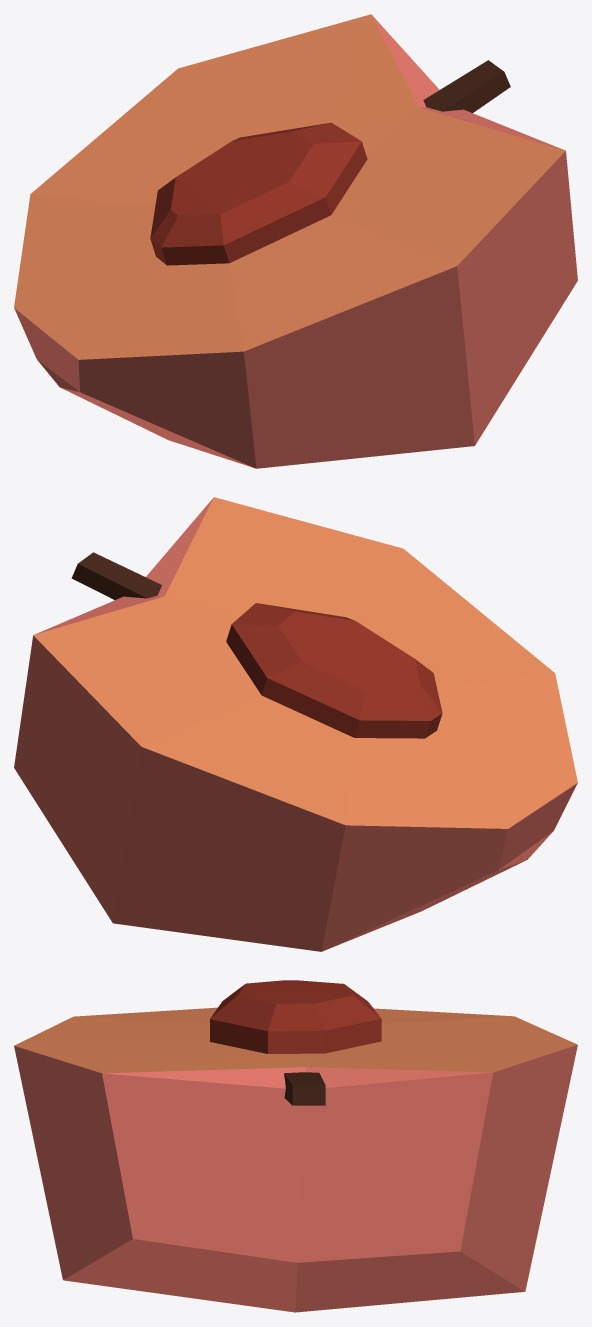
The model's file is peachHalf.fbx.
3 renders of one model, top to bottom at view 1: azimuth 30°, elevation 25°; view 2: azimuth 150°, elevation 25°; view 3: azimuth 270°, elevation 25°, orthographic. The views are drawn at different scales.
Visible parts, largest first — view 1: peachHalf; view 2: peachHalf; view 3: peachHalf.
Boxes of the visible parts, bbox=[...] form: peachHalf: bbox=[14, 14, 577, 468]; peachHalf: bbox=[14, 497, 577, 951]; peachHalf: bbox=[14, 980, 577, 1312].
Size of the model in its own units: 6.32 by 3.68 by 6.38.
1 material, 1 textured.
